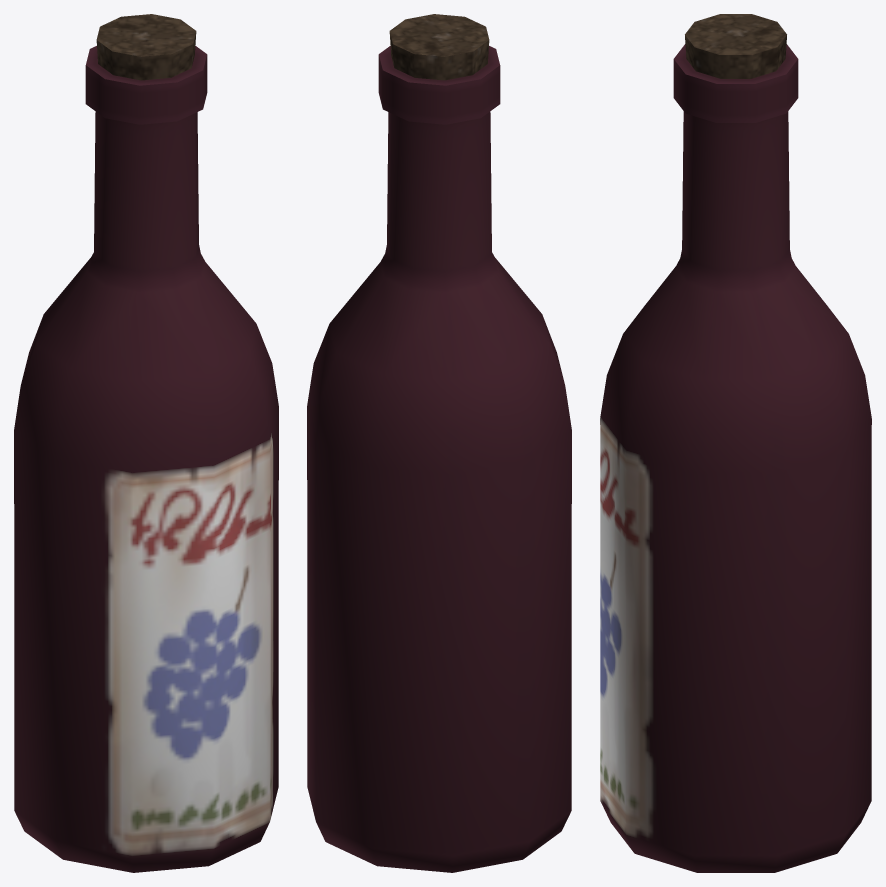
The model's file is sb_obj_indoor020_Liquorbottle02.fbx.
The picture shows the model from 3 angles, left to right: view 1: azimuth 30°, elevation 25°; view 2: azimuth 150°, elevation 25°; view 3: azimuth 270°, elevation 25°; orthographic projection.
Visible parts, largest first — view 1: sb_obj_indoor020_Liquorbottle02; view 2: sb_obj_indoor020_Liquorbottle02; view 3: sb_obj_indoor020_Liquorbottle02.
Boxes of the visible parts, left/top/right/bottom form: sb_obj_indoor020_Liquorbottle02: left=14, top=14, right=278, bottom=872; sb_obj_indoor020_Liquorbottle02: left=307, top=14, right=571, bottom=872; sb_obj_indoor020_Liquorbottle02: left=600, top=14, right=871, bottom=872.
Size of the model in its own units: 0.1378 by 0.4689 by 0.1449.
